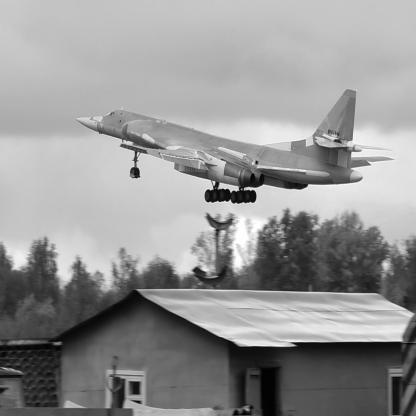Tu160: (77, 90, 396, 205)
